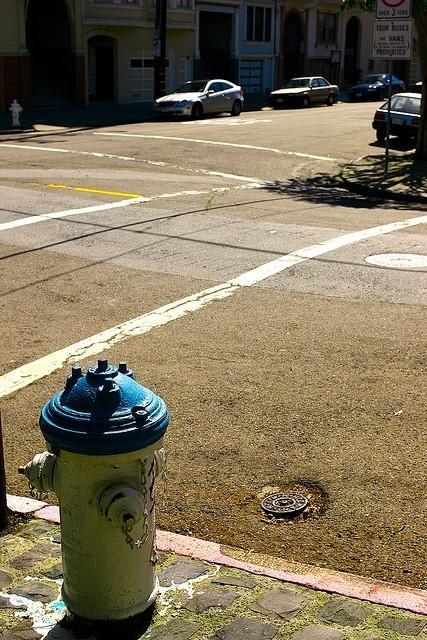car: (153, 79, 244, 120), (268, 76, 340, 110), (373, 92, 422, 141), (348, 72, 409, 102)
